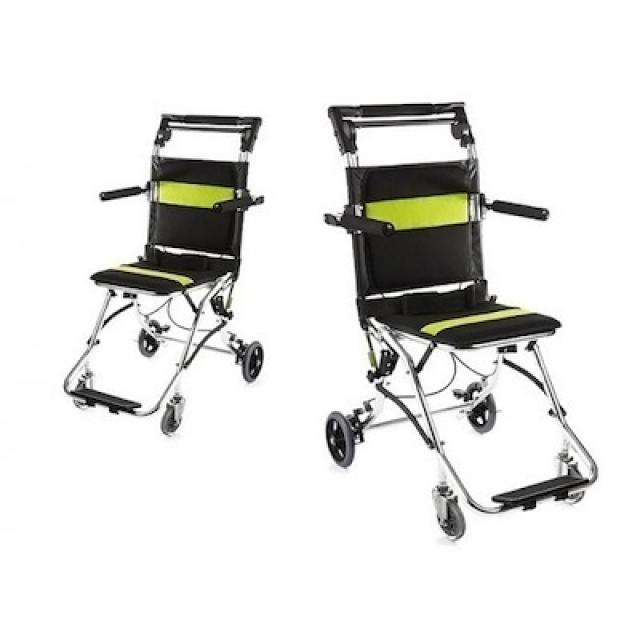wheelchair: (54, 62, 613, 548)
